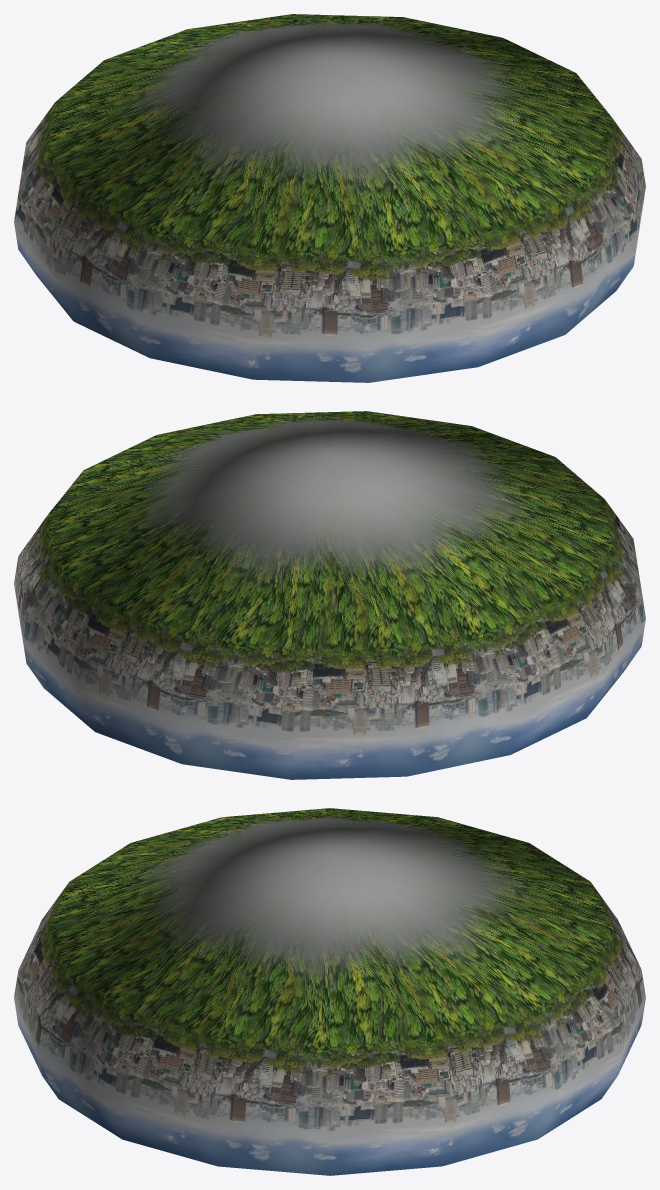
The model's file is Prison.glb.
The picture shows the model from 3 angles, top to bottom: view 1: azimuth 30°, elevation 25°; view 2: azimuth 150°, elevation 25°; view 3: azimuth 270°, elevation 25°; orthographic projection.
Visible parts, largest first — view 1: Prison; view 2: Prison; view 3: Prison.
Boxes of the visible parts, x1,y1,x2,y2 form: Prison: (14, 14, 645, 382); Prison: (14, 411, 645, 779); Prison: (14, 808, 645, 1175).
Bounding box in the file's own units: 332 × 113 × 332.
Materials: 18 (17 with a texture image).
